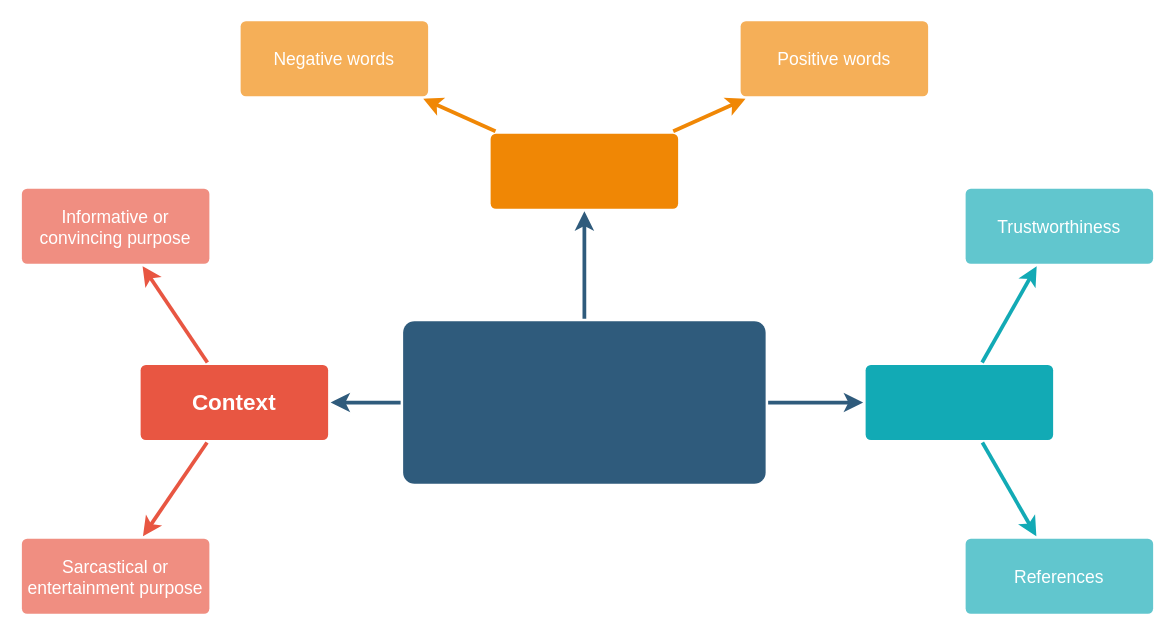
This 1174x635 diagram has some shape labels left out. Here are the shapes that lost their labels. From the top down, the centre of each, then its label:
(584,170): Sentimental value
(583,402): Manual fact-checking
(958,401): Sources
